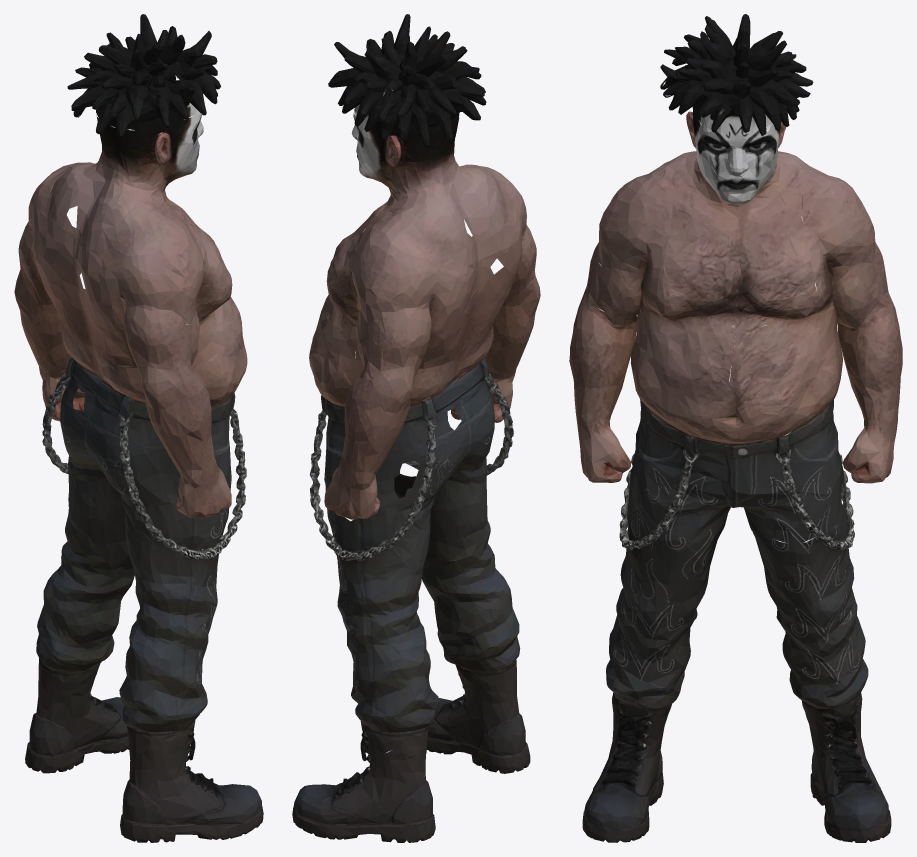
File: MAIME.glb
The picture shows the model from 3 angles, left to right: view 1: azimuth 30°, elevation 25°; view 2: azimuth 150°, elevation 25°; view 3: azimuth 270°, elevation 25°; orthographic projection. The views are drawn at different scales.
Parts seen in each view (by area): view 1: hipL, chest, knL, knR, head, ftL, shL, pelvis, ftR, hipR, elL, shR (+1 smaller); view 2: hipR, chest, knR, knL, head, shR, ftR, pelvis, ftL, hipL, elR, shL (+1 smaller); view 3: chest, hipR, hipL, knL, knR, elL, head, pelvis, elR, shR, ftR, ftL (+3 smaller).
Boxes of the visible parts, x1,y1,x2,y2 form: hipL: (103,327,244,548); chest: (26,112,227,333); knL: (119,513,239,758); knR: (36,471,134,690); head: (67,14,220,137); ftL: (120,737,263,842); shL: (118,107,222,345); pelvis: (48,291,236,521); ftR: (25,673,129,773); hipR: (14,248,88,499); elL: (167,266,247,384); shR: (19,162,86,254); hipR: (311,328,450,550); chest: (326,112,529,336); knR: (316,518,439,755); knL: (396,460,520,691); head: (328,14,486,142); shR: (329,108,436,349); ftR: (292,738,435,842); pelvis: (318,294,507,518); ftL: (426,673,530,773); hipL: (451,251,540,497); elR: (309,281,369,396); shL: (461,164,536,259); chest: (658,121,816,337); hipR: (770,268,902,533); hipL: (569,282,699,530); knL: (606,506,722,723); knR: (752,507,868,723); elL: (585,261,738,428); head: (660,14,813,138); pelvis: (685,334,785,537); elR: (745,273,880,436); shR: (768,83,884,293); ftR: (805,707,891,842); ftL: (582,708,669,842).
Bounding box in the file's own units: 0.4381 × 1.88 × 0.7118.
1 material, 1 textured.
